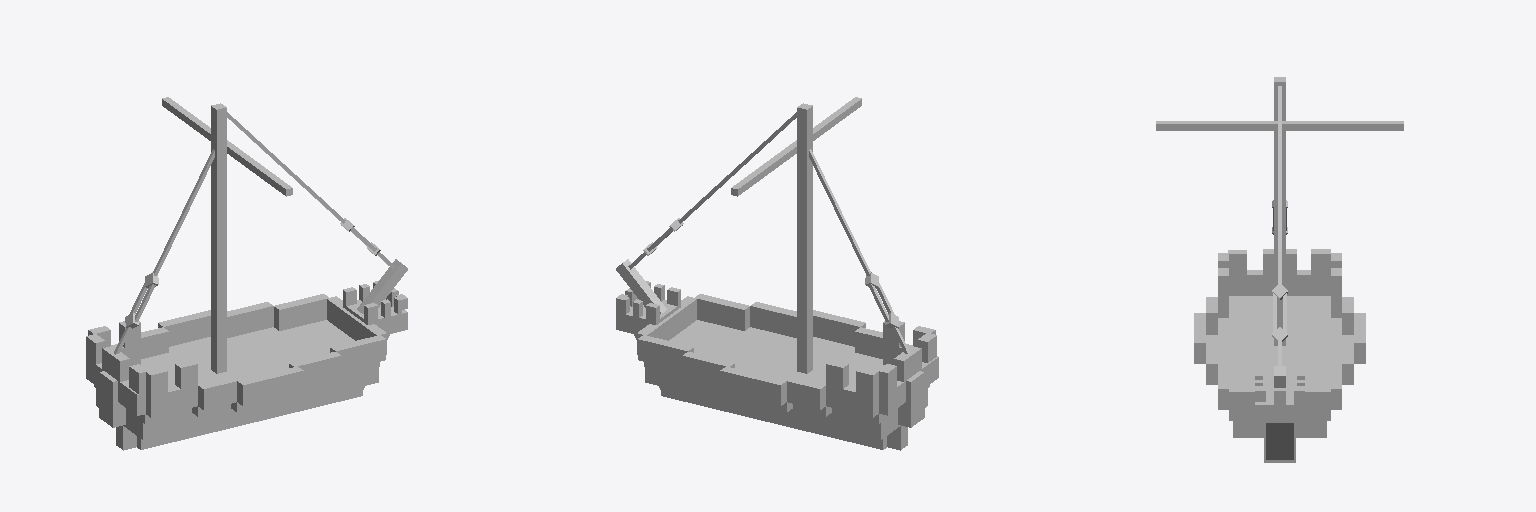
Rendered from cog_base.obj.
3 renders of one model, left to right at view 1: azimuth 30°, elevation 25°; view 2: azimuth 150°, elevation 25°; view 3: azimuth 270°, elevation 25°, orthographic.
Visible parts, largest first — view 1: cube; view 2: cube; view 3: cube.
Part boxes in pixels (bbox=[...]): cube: bbox=[86, 97, 407, 450]; cube: bbox=[616, 97, 938, 450]; cube: bbox=[1156, 77, 1403, 462].
Bounding box in the file's own units: 5.57 × 5.62 × 4.